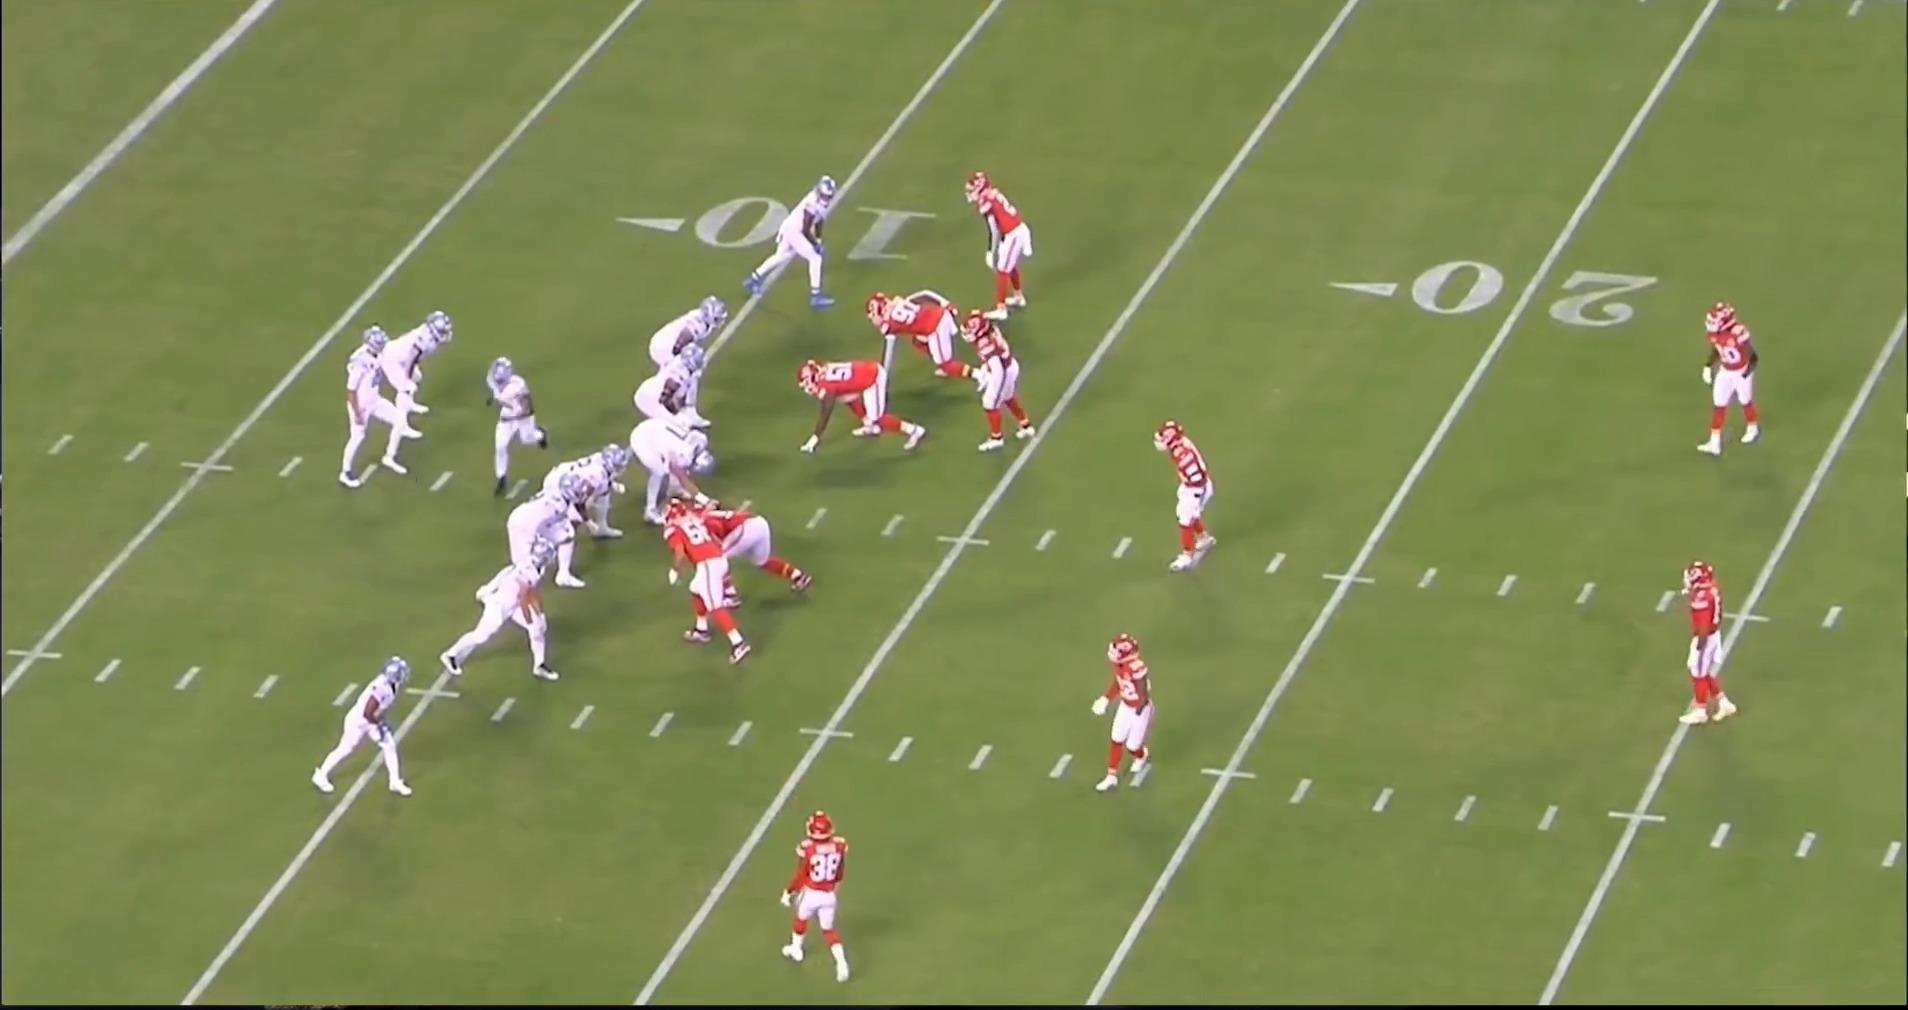player: (444, 541, 573, 687), (302, 649, 416, 803), (659, 502, 756, 667), (739, 169, 848, 308), (681, 501, 821, 607), (778, 808, 860, 986), (473, 474, 583, 605), (790, 354, 928, 453), (326, 326, 406, 495), (1091, 625, 1164, 795), (1693, 297, 1768, 462), (1667, 560, 1736, 733), (864, 285, 983, 383), (967, 163, 1041, 320), (652, 287, 737, 423), (957, 306, 1034, 455), (486, 348, 557, 500), (629, 411, 718, 531), (633, 345, 718, 470), (535, 444, 623, 563), (1160, 420, 1226, 578), (383, 310, 454, 437)
